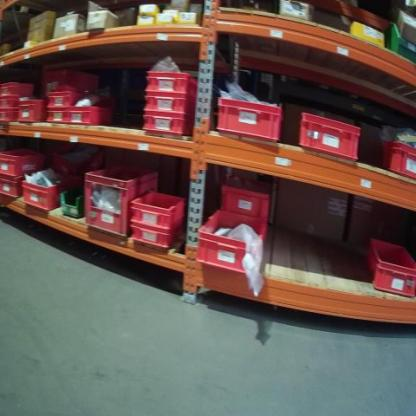small_load_carrier: (83, 163, 159, 242), (197, 206, 262, 276), (291, 108, 360, 164), (213, 93, 283, 146), (366, 232, 415, 297), (127, 187, 190, 227), (220, 171, 274, 211), (129, 218, 188, 249), (20, 170, 62, 211), (372, 142, 416, 178), (143, 71, 198, 99), (40, 73, 98, 97), (1, 146, 46, 176), (144, 95, 195, 117), (70, 105, 114, 126), (141, 117, 195, 134), (17, 96, 47, 126), (45, 92, 98, 107), (257, 212, 277, 247), (1, 176, 23, 197), (46, 110, 70, 126), (1, 82, 34, 93), (2, 95, 26, 109), (1, 108, 17, 124)
